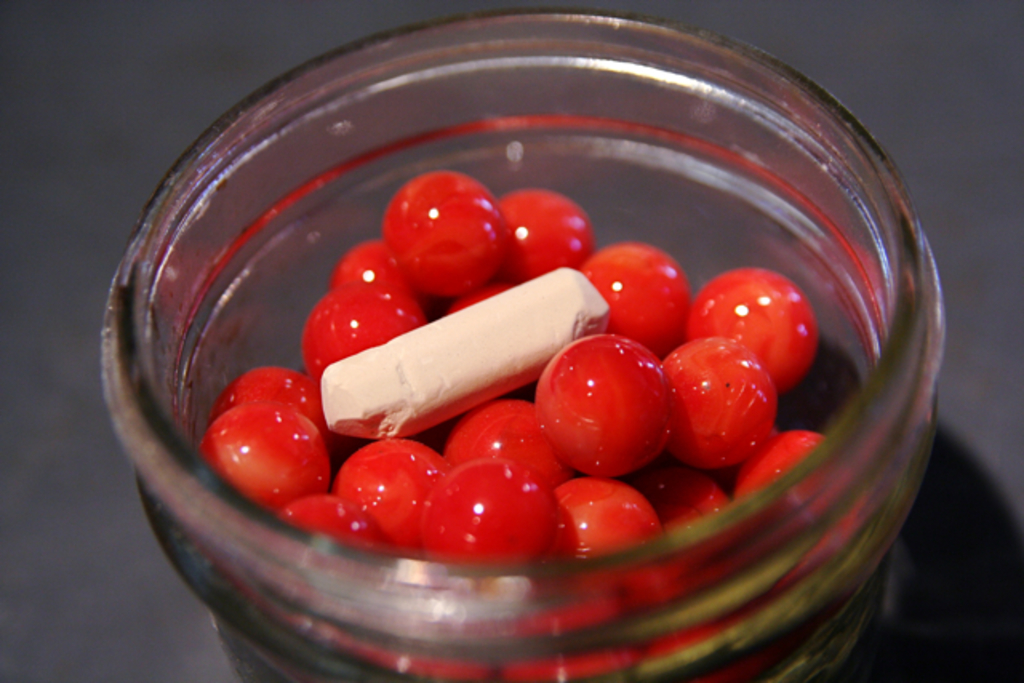Tomato: (528, 327, 667, 471)
